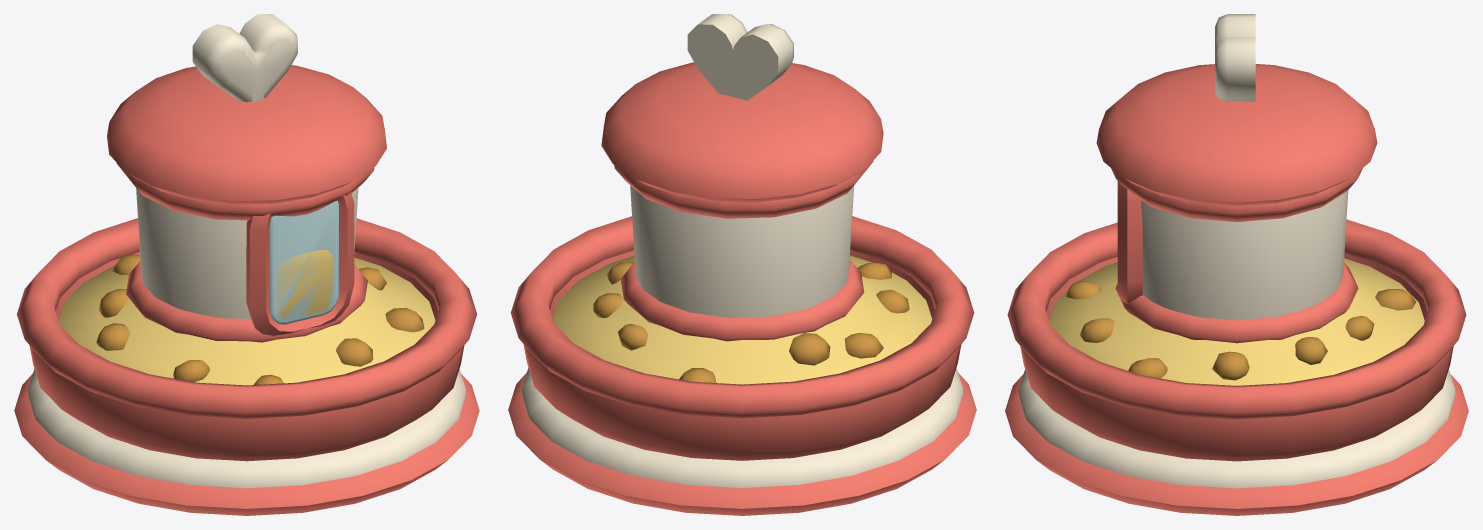
Rendered from ShopFeeder.fbx.
3 renders of one model, left to right at view 1: azimuth 30°, elevation 25°; view 2: azimuth 150°, elevation 25°; view 3: azimuth 270°, elevation 25°, orthographic.
Parts seen in each view (by area): view 1: ShopFeeder; view 2: ShopFeeder; view 3: ShopFeeder.
Part boxes in pixels (<box>): ShopFeeder: <box>14,14,479,515</box>; ShopFeeder: <box>508,14,976,515</box>; ShopFeeder: <box>1005,14,1468,515</box>.
Size of the model in its own units: 0.74 by 0.6987 by 0.74.
